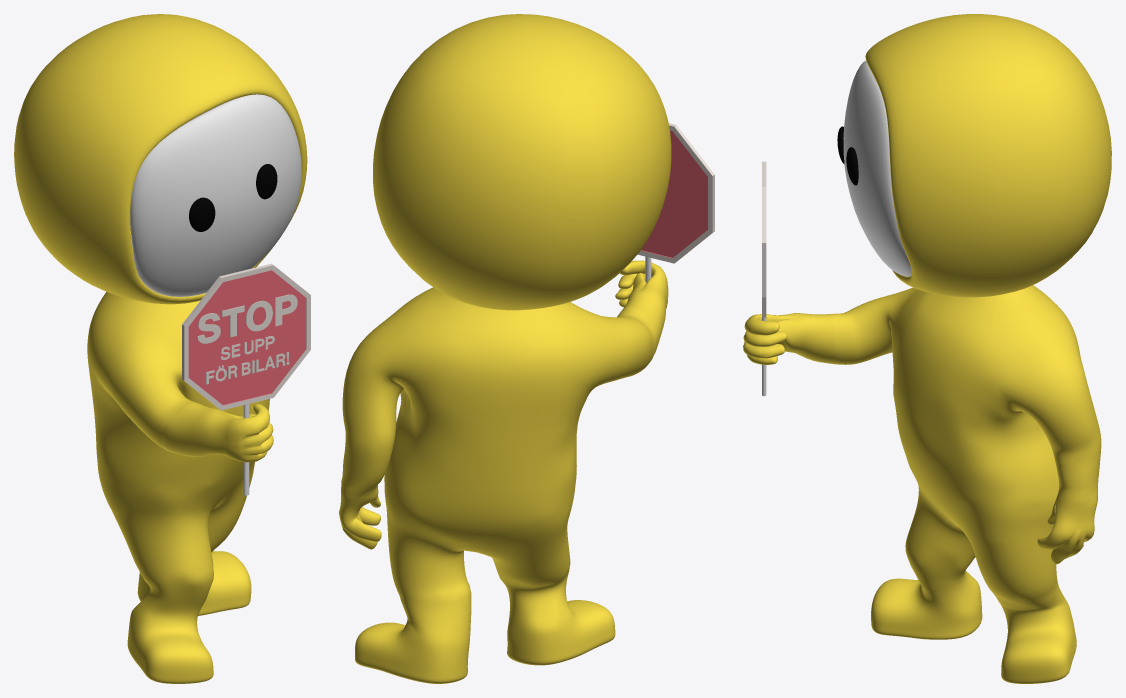
File: STOPP.glb
3 views of the same model, side by side, from view 1: azimuth 30°, elevation 25°; view 2: azimuth 150°, elevation 25°; view 3: azimuth 270°, elevation 25° (orthographic). The views are drawn at different scales.
Parts seen in each view (by area): view 1: Cube.017; view 2: Cube.017; view 3: Cube.017.
Part boxes in pixels (x1=…): Cube.017: x1=14, y1=14, x2=310, y2=683; Cube.017: x1=339, y1=14, x2=714, y2=683; Cube.017: x1=743, y1=14, x2=1111, y2=683.
Size of the model in its own units: 0.5794 by 1.37 by 0.7544.
